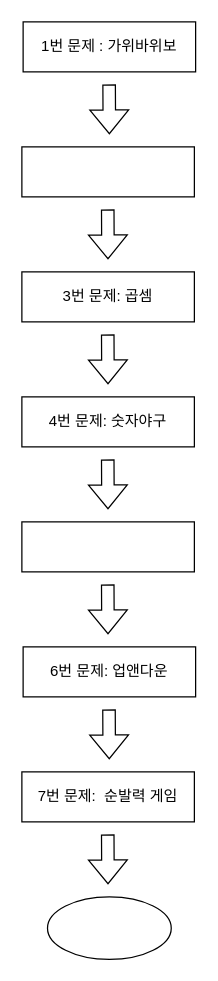
Image size: 218x981. Some labels were removed from this diagram. Here are the shapes that lost their labels. From the top down, the centre of each, then its label:
At (107,171): "2번 문제: 퀴즈".
At (107,546): "5번 문제: 행맨".
At (108,927): "종료".
